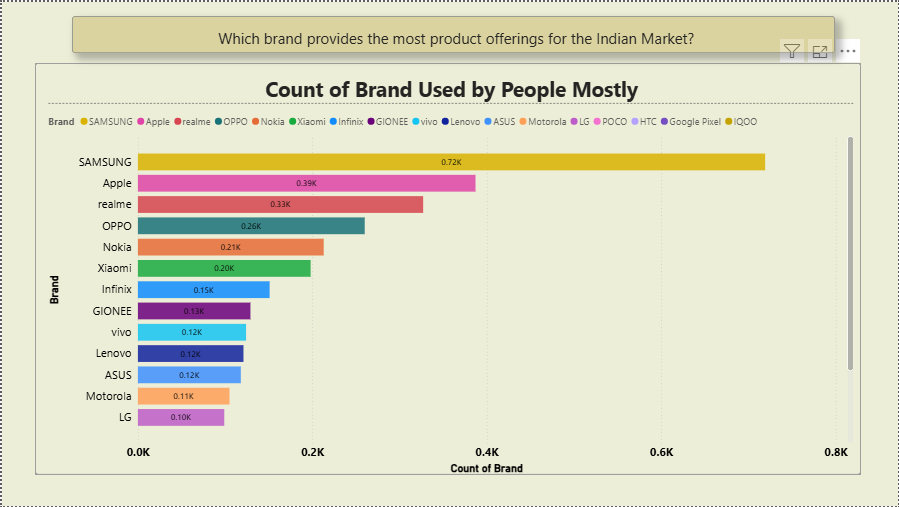

The page's visual inventory and layout, read from the dashboard file:
{"tool":"powerbi","page":{"name":"Most_Product_Offering","canvas":[1280,720],"ordinal":1},"visuals":[{"type":"barChart","title":"Count of Brand by Brand","fields":{"Category":["Flipkart_Mobiles.Brand"],"Y":["CountNonNull(Flipkart_Mobiles.Brand)"],"Series":["Flipkart_Mobiles.Brand"]},"box":[46.7,86.7,1180,588.3],"z":0},{"type":"textbox","box":[100,20,1090,53.3],"z":1000}]}

Visuals, with their boxes on the page's 1280x720 design canvas (x1, y1, x2, y2). These are canvas units, not pixel positions in the 899x507 screenshot, which may show the page scaled, cropped or inside an application window:
"Count of Brand by Brand" barChart: left=47, top=87, right=1227, bottom=675
textbox: left=100, top=20, right=1190, bottom=73
